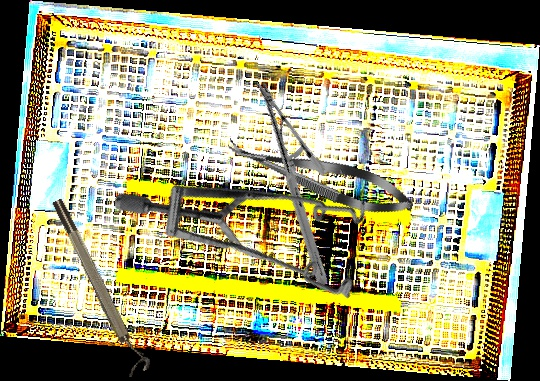Fixation Ring: (48, 193, 154, 378)
Micro Scissor: (221, 127, 419, 226)
Needle Holder: (188, 80, 397, 287)
Speculum: (110, 75, 405, 370)
